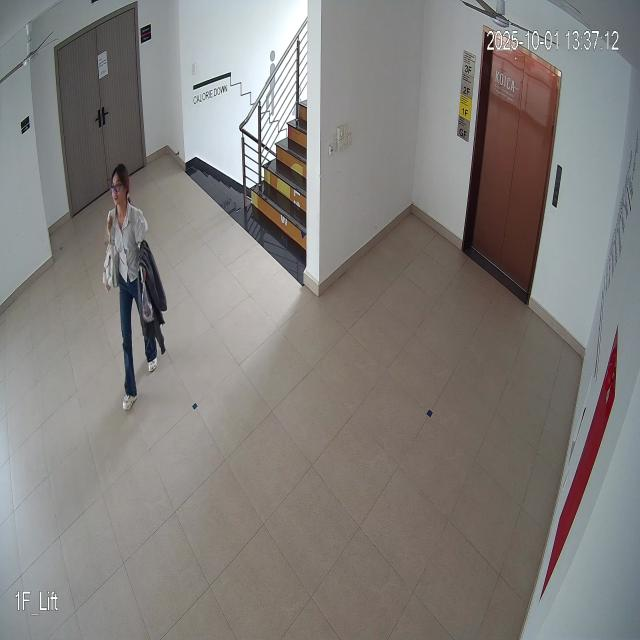face: (109, 165, 131, 215)
